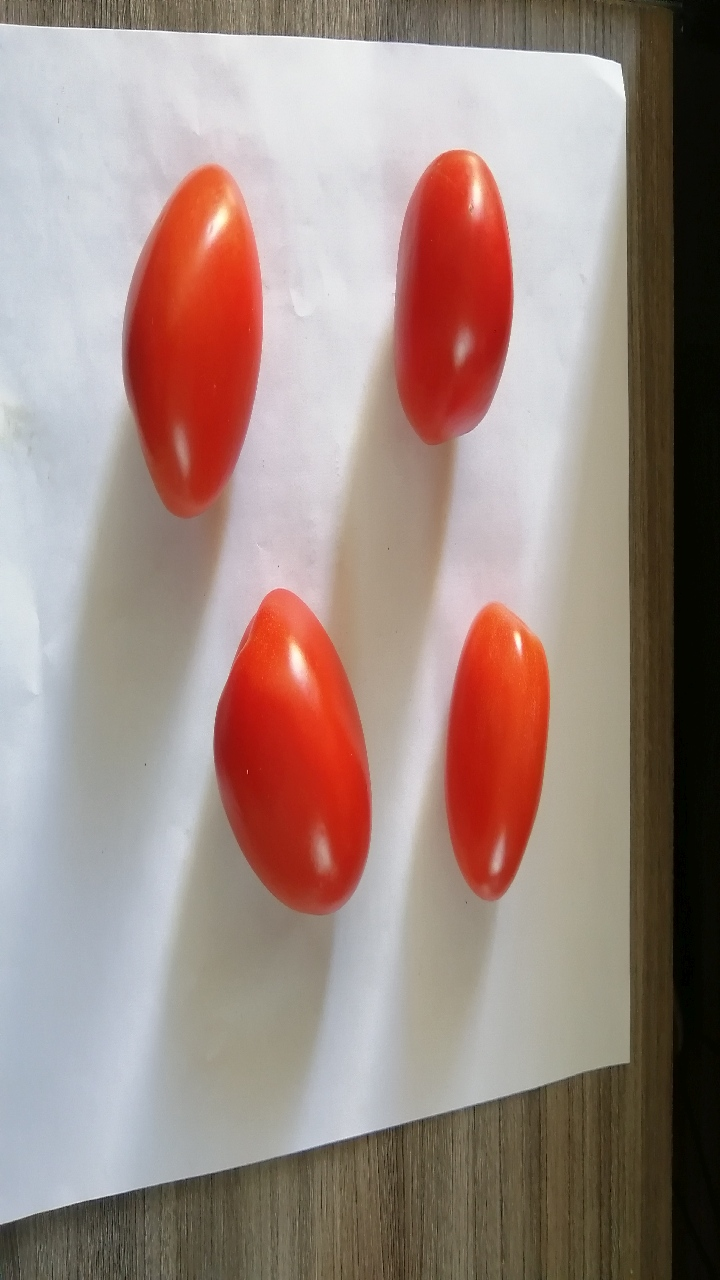tomateRojo: (203, 580, 429, 932), (98, 149, 281, 532), (369, 120, 532, 489), (421, 562, 568, 931)
